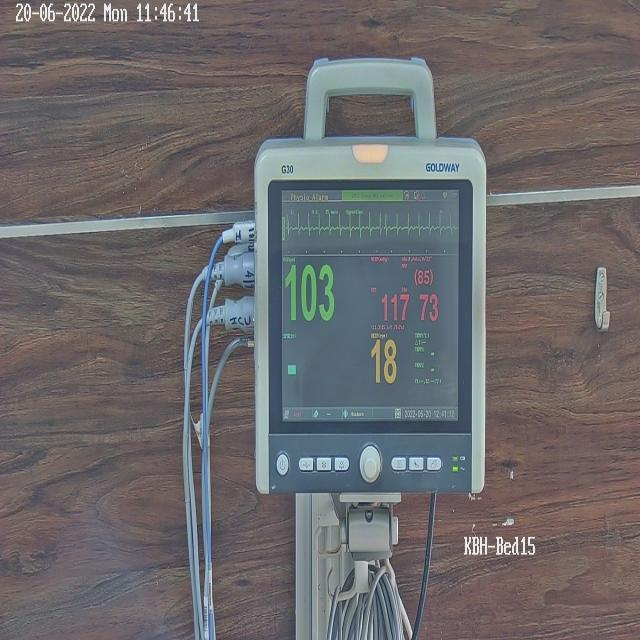Monitor: (212, 52, 488, 640)
